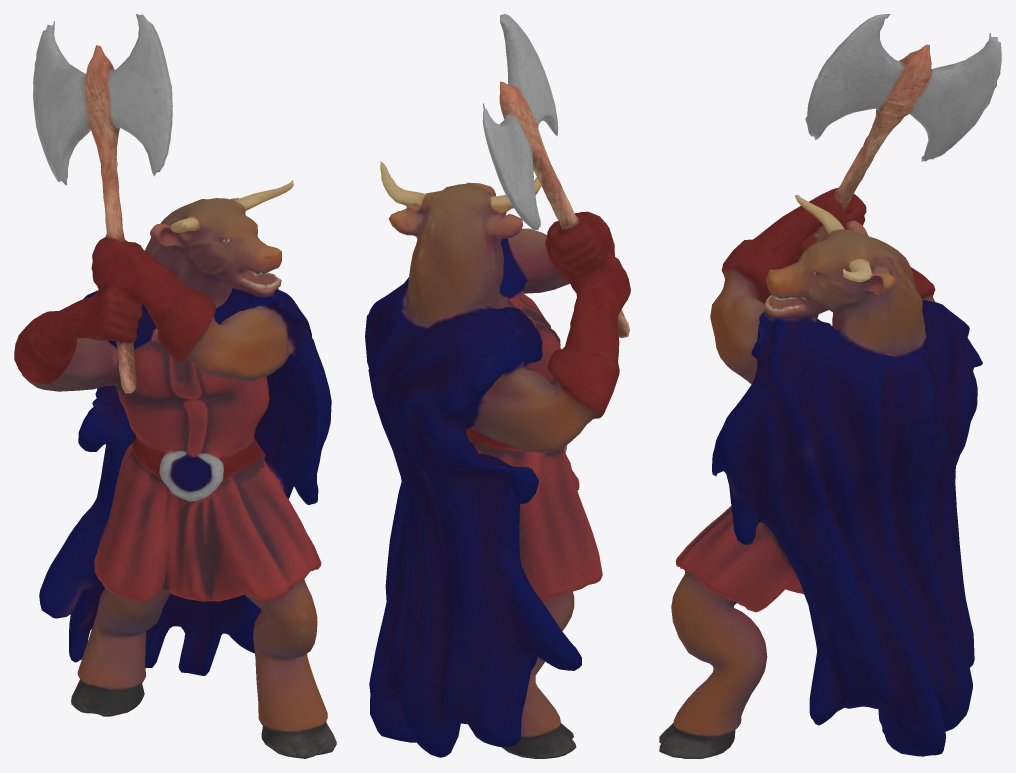
File: MZ4250 - Minotaur Male Barbarian.glb
The picture shows the model from 3 angles, left to right: view 1: azimuth 30°, elevation 25°; view 2: azimuth 150°, elevation 25°; view 3: azimuth 270°, elevation 25°; orthographic projection. The views are drawn at different scales.
Parts seen in each view (by area): view 1: Minotaur Male Barbarian_low.001; view 2: Minotaur Male Barbarian_low.001; view 3: Minotaur Male Barbarian_low.001.
Part boxes in pixels (bbox=[...]): Minotaur Male Barbarian_low.001: bbox=[14, 14, 336, 758]; Minotaur Male Barbarian_low.001: bbox=[365, 14, 630, 758]; Minotaur Male Barbarian_low.001: bbox=[659, 14, 1001, 758].
Bounding box in the file's own units: 1.52 × 4.09 × 1.8.
Materials: 1 (1 with a texture image).
